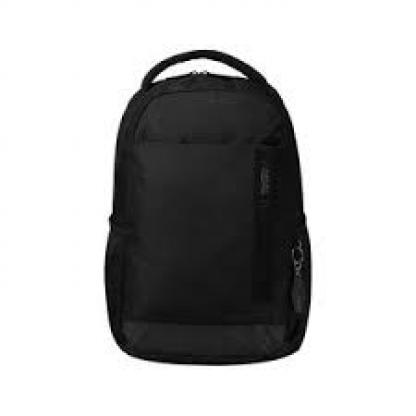morral: (90, 32, 324, 376)
